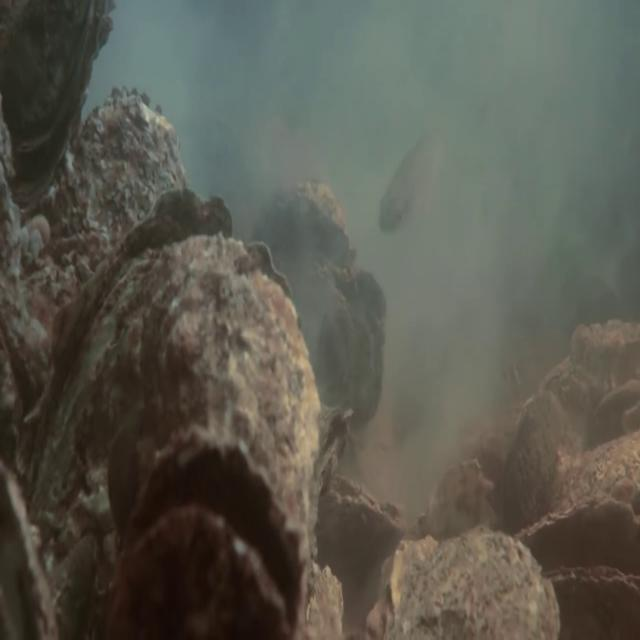Oyster-Closed: (22, 186, 236, 529), (102, 230, 326, 556), (508, 491, 637, 555), (539, 556, 637, 625), (313, 487, 405, 554)
Oyster-Indeterminate: (248, 180, 385, 426), (58, 83, 192, 276), (0, 0, 117, 217), (360, 528, 567, 640), (495, 387, 570, 518)
Oyster-Open: (118, 428, 308, 632), (587, 375, 639, 445)
